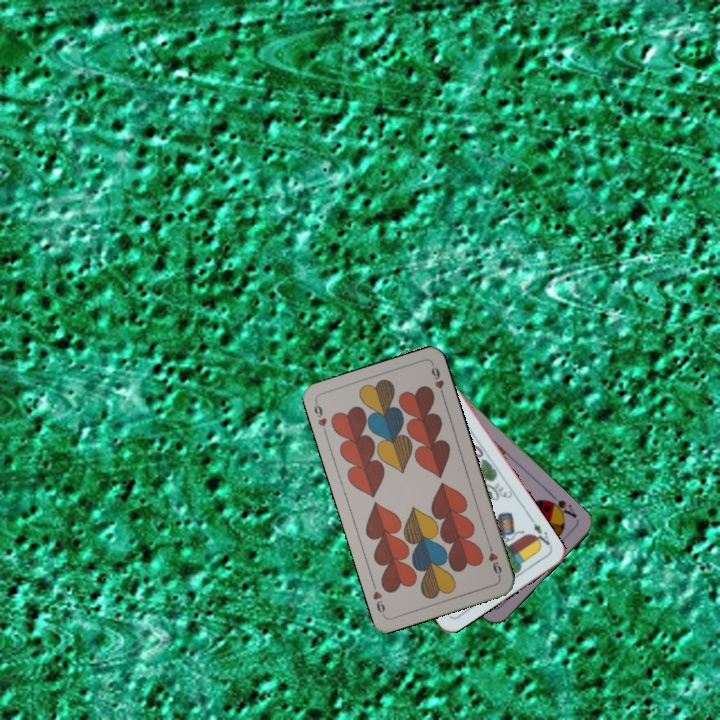EA: (526, 514, 555, 551)
H9: (484, 541, 504, 580), (310, 398, 329, 438)
SA: (543, 490, 579, 521)
